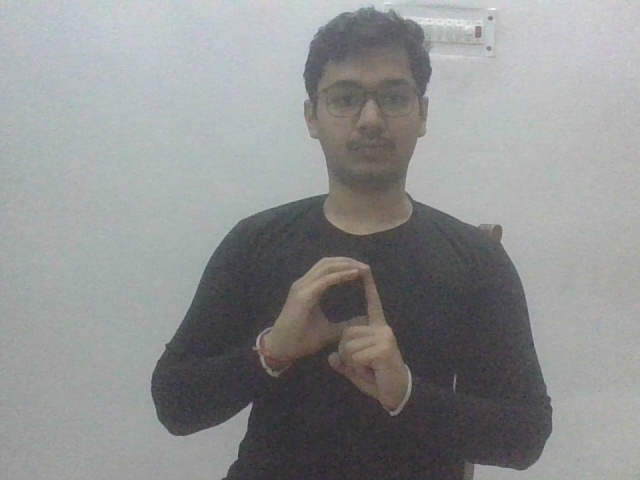D: (257, 252, 421, 418)
